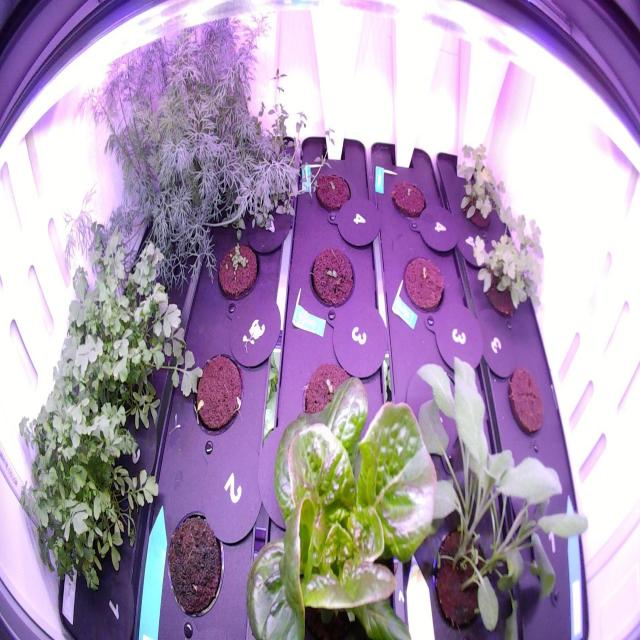Ready: (235, 362, 450, 638)
empty_pod: (526, 496, 576, 599)
germination: (298, 353, 366, 446), (304, 239, 358, 314), (397, 246, 449, 319), (214, 232, 263, 305), (310, 168, 356, 218), (386, 173, 428, 226)
pod: (160, 503, 231, 625), (185, 342, 250, 446), (503, 358, 549, 440)
